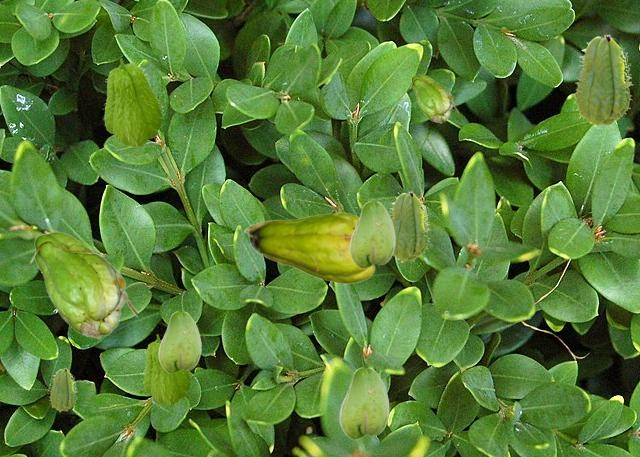sayote: (29, 231, 136, 338), (243, 212, 375, 283), (573, 34, 632, 127), (102, 57, 163, 146), (142, 333, 191, 404), (339, 367, 388, 438), (349, 201, 394, 267), (389, 191, 429, 262), (158, 311, 200, 372), (409, 74, 457, 122), (49, 368, 76, 411)
